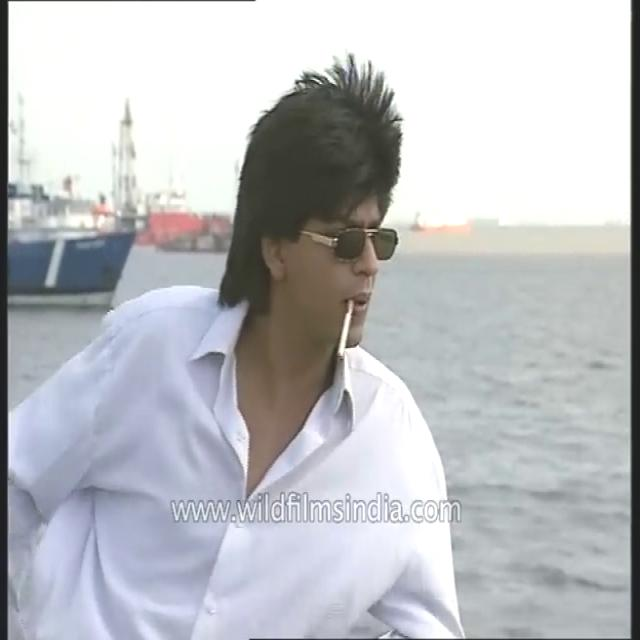Smooking: (330, 295, 366, 360)
